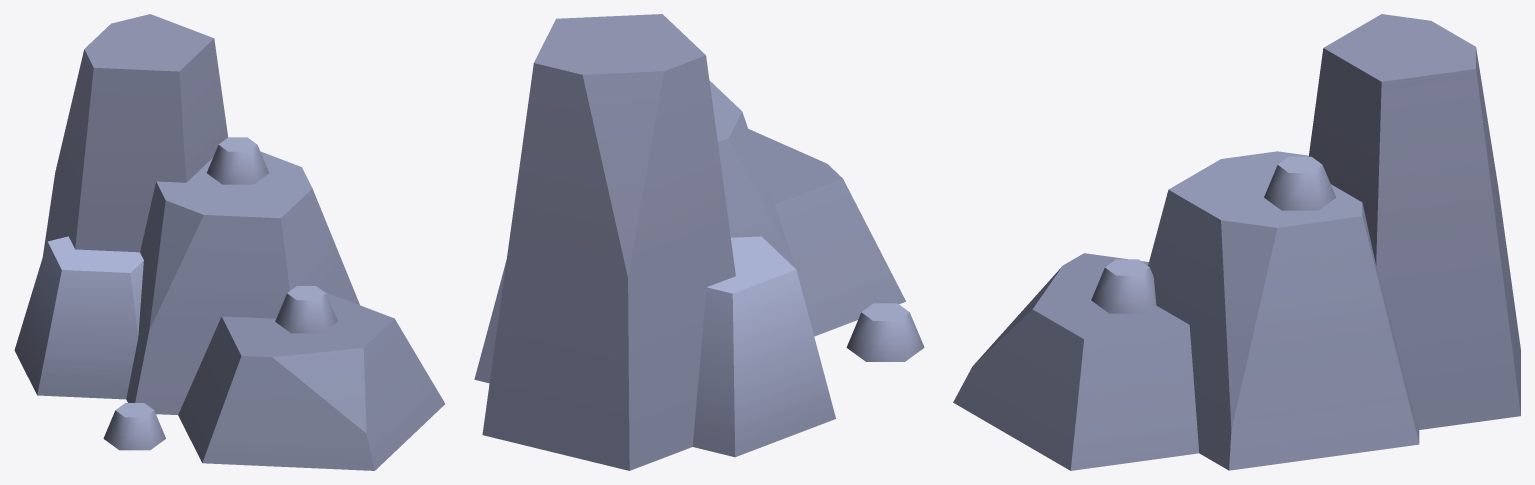
File: kenney-fantasy-town-rock-wide.glb
The picture shows the model from 3 angles, left to right: view 1: azimuth 30°, elevation 25°; view 2: azimuth 150°, elevation 25°; view 3: azimuth 270°, elevation 25°; orthographic projection. The views are drawn at different scales.
Visible parts, largest first — view 1: rock-wide; view 2: rock-wide; view 3: rock-wide.
Boxes of the visible parts, box(x1,y1,x2,y2) form: rock-wide: box(14, 14, 445, 470); rock-wide: box(474, 14, 924, 470); rock-wide: box(953, 14, 1520, 470).
Bounding box in the file's own units: 1.09 × 1.02 × 1.57.
Materials: 1 (1 with a texture image).
